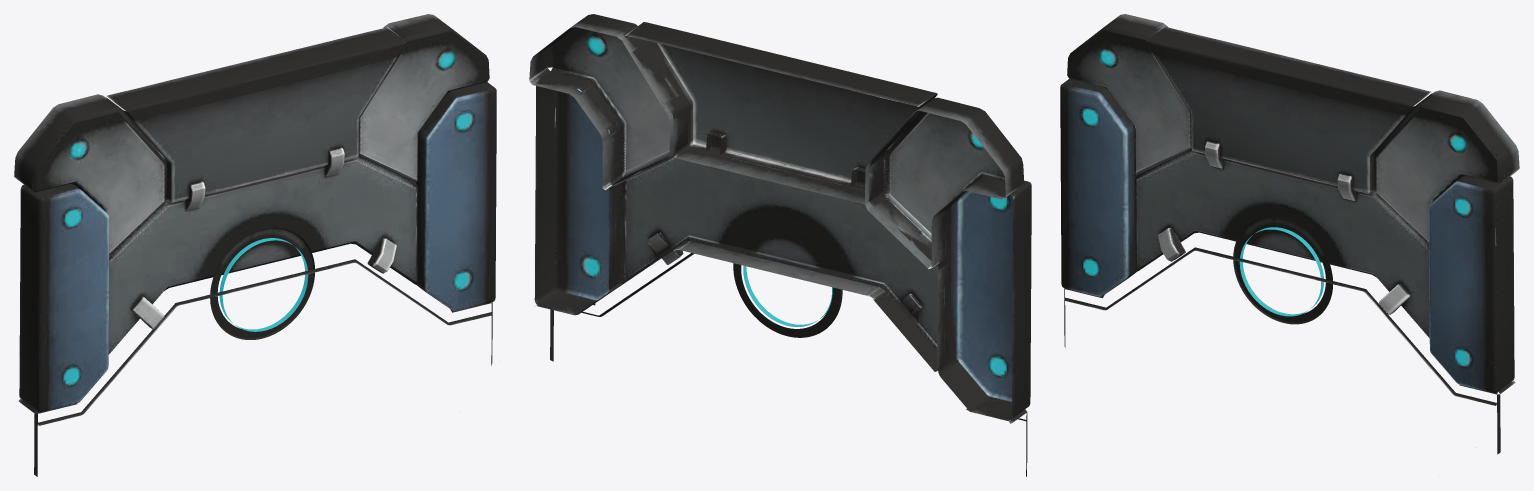
The model's file is Puerta_ParteArriba.fbx.
3 renders of one model, left to right at view 1: azimuth 30°, elevation 25°; view 2: azimuth 150°, elevation 25°; view 3: azimuth 330°, elevation 25°, orthographic. The views are drawn at different scales.
Visible parts, largest first — view 1: Object_9.005; view 2: Object_9.005; view 3: Object_9.005.
Part boxes in pixels (<box>): Object_9.005: <box>14,14,500,476</box>; Object_9.005: <box>529,14,1031,476</box>; Object_9.005: <box>1060,14,1519,454</box>.
Bounding box in the file's own units: 1206 × 933 × 171.
1 material, 1 textured.
